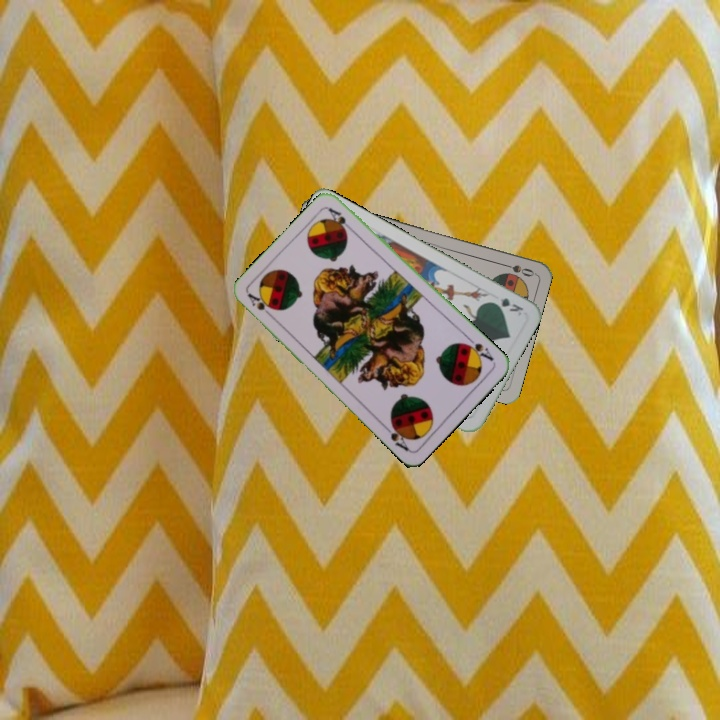GK: (487, 294, 526, 318)
SA: (460, 333, 496, 364), (244, 289, 277, 321)
SO: (497, 259, 537, 279)
